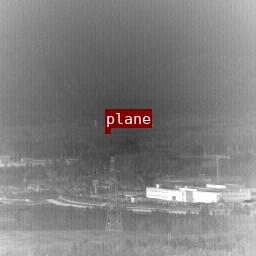plane: (105, 128, 110, 133)
